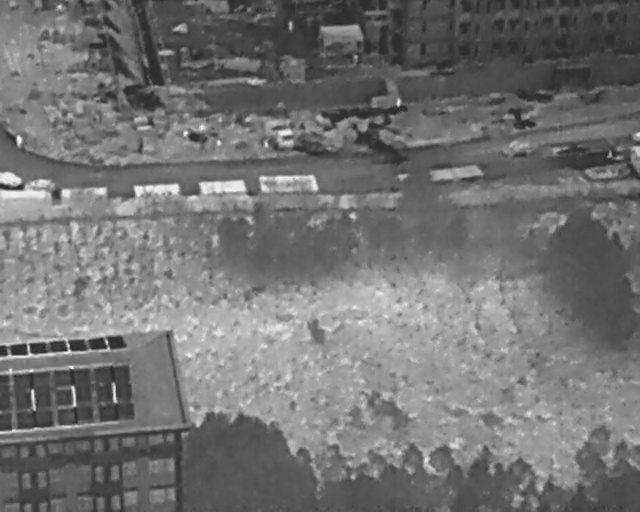Person: (15, 131, 24, 148), (287, 17, 294, 31), (396, 95, 402, 109)
